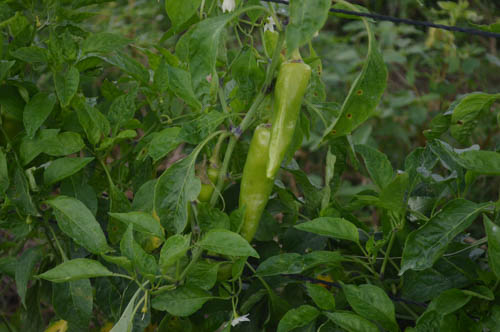ChiliPepper: (265, 61, 313, 183), (240, 121, 280, 239)
